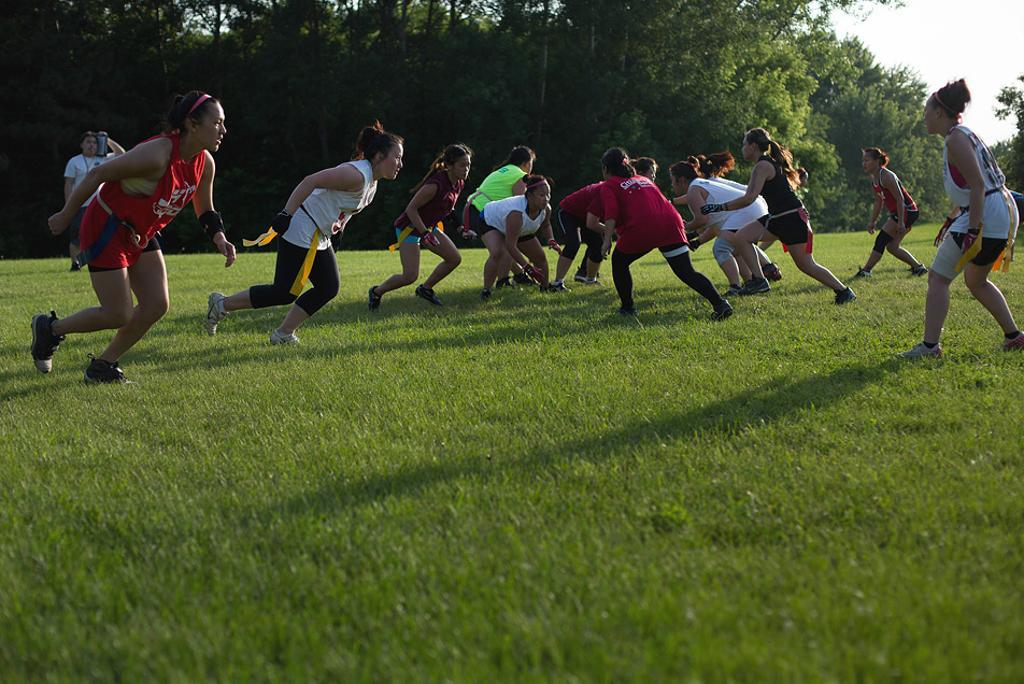face: (201, 105, 226, 152), (386, 141, 403, 178), (924, 103, 943, 135), (533, 187, 551, 210), (455, 156, 470, 181), (742, 139, 756, 161), (523, 153, 534, 177), (85, 137, 98, 155), (670, 175, 683, 193), (863, 154, 876, 172), (646, 166, 657, 184)
